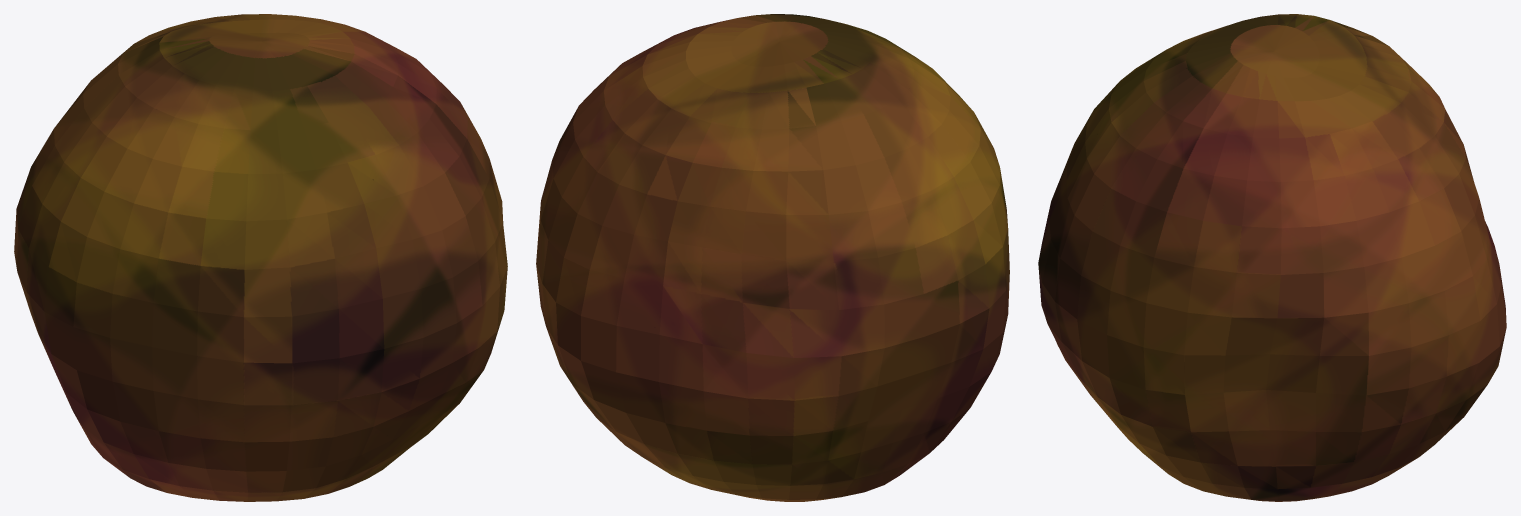
The model's file is Fireball.fbx.
3 views of the same model, side by side, from view 1: azimuth 30°, elevation 25°; view 2: azimuth 150°, elevation 25°; view 3: azimuth 270°, elevation 25° (orthographic). The views are drawn at different scales.
Visible parts, largest first — view 1: Fireball; view 2: Fireball; view 3: Fireball.
Part boxes in pixels (x1,y1,x2,y2): Fireball: (14,14,507,501); Fireball: (536,14,1009,501); Fireball: (1038,14,1506,501).
Size of the model in its own units: 198 by 193 by 194.
Materials: 1 (1 with a texture image).
